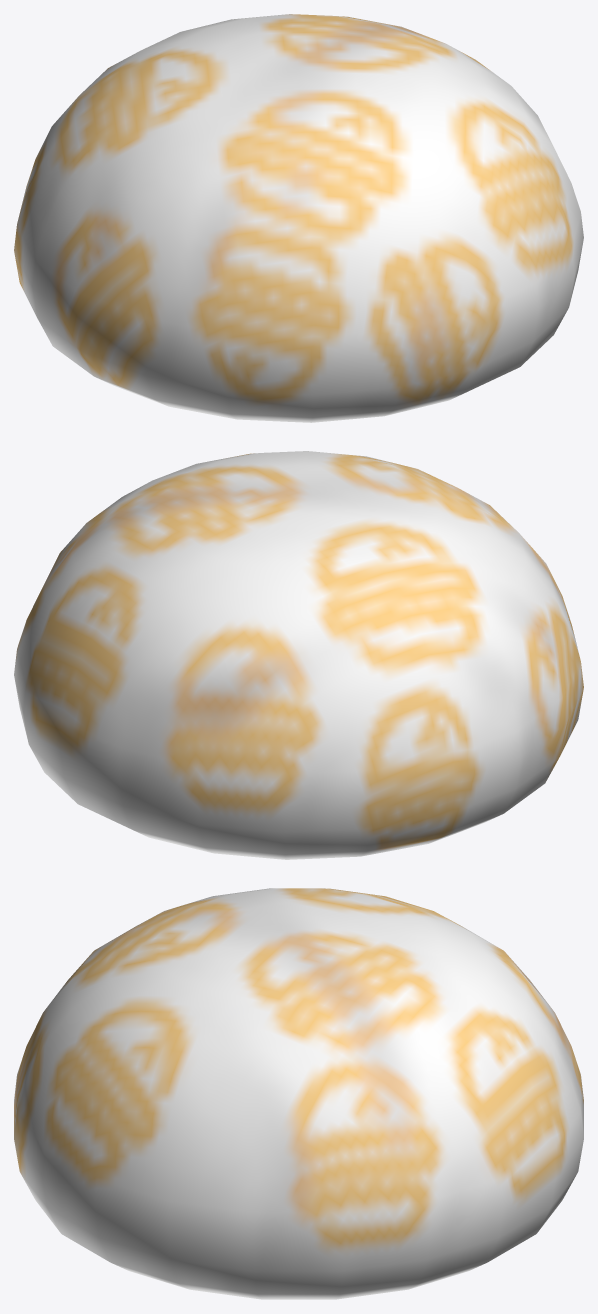
File: Burger_wrap.fbx
3 views of the same model, one above another, from view 1: azimuth 30°, elevation 25°; view 2: azimuth 150°, elevation 25°; view 3: azimuth 270°, elevation 25° (orthographic).
Parts seen in each view (by area): view 1: Burger_wrap; view 2: Burger_wrap; view 3: Burger_wrap.
Boxes of the visible parts, x1,y1,x2,y2 form: Burger_wrap: [14, 14, 583, 422]; Burger_wrap: [14, 451, 583, 859]; Burger_wrap: [14, 888, 583, 1299].
Size of the model in its own units: 15.8 by 8.33 by 15.8.
